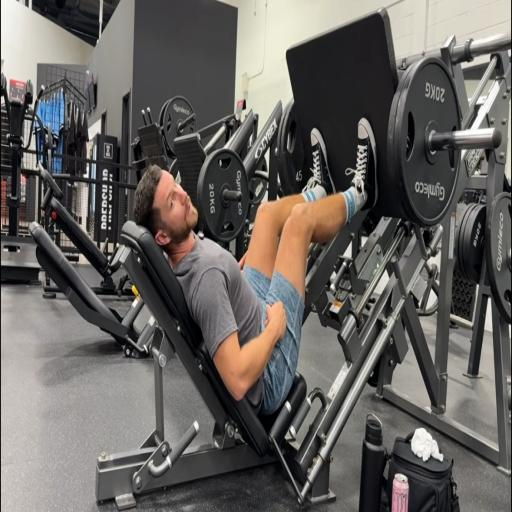Leg Press: (121, 22, 484, 481)
